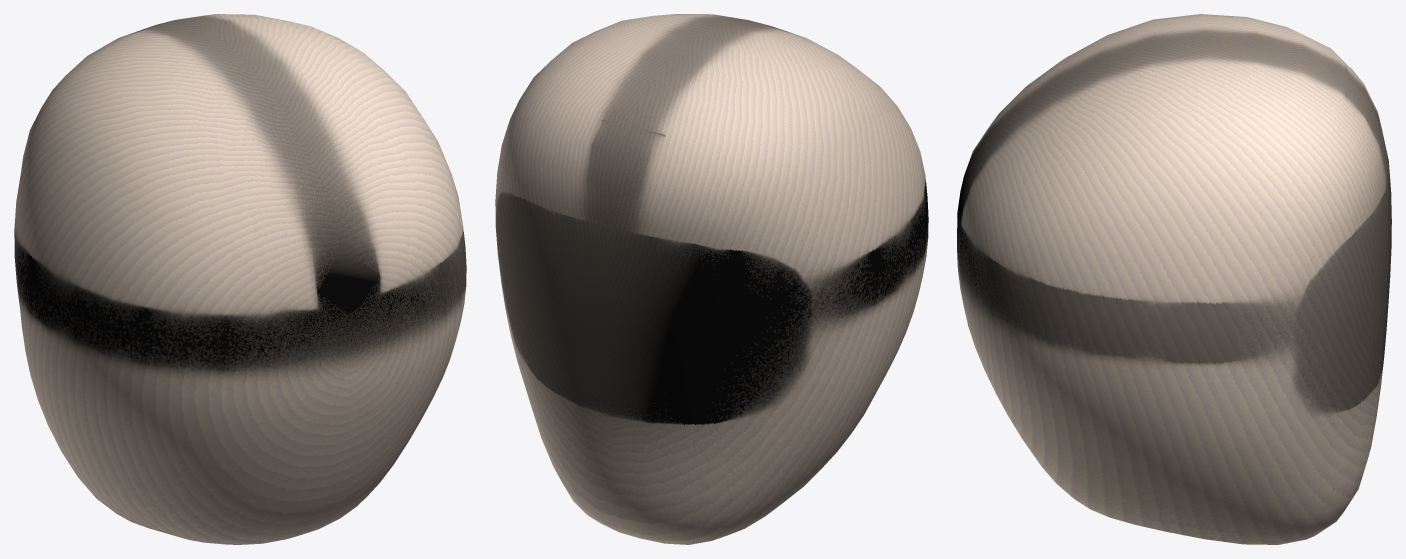
Rendered from head.obj.
The picture shows the model from 3 angles, left to right: view 1: azimuth 30°, elevation 25°; view 2: azimuth 150°, elevation 25°; view 3: azimuth 270°, elevation 25°; orthographic projection. The views are drawn at different scales.
Visible parts, largest first — view 1: head_Cube; view 2: head_Cube; view 3: head_Cube.
Boxes of the visible parts, bbox=[...] form: head_Cube: bbox=[14, 14, 466, 544]; head_Cube: bbox=[495, 14, 928, 544]; head_Cube: bbox=[957, 14, 1391, 544].
Bounding box in the file's own units: 0.2157 × 0.2597 × 0.2137.
1 material, 1 textured.
